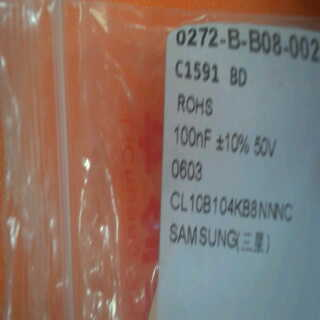100nF: (172, 122, 217, 155)
